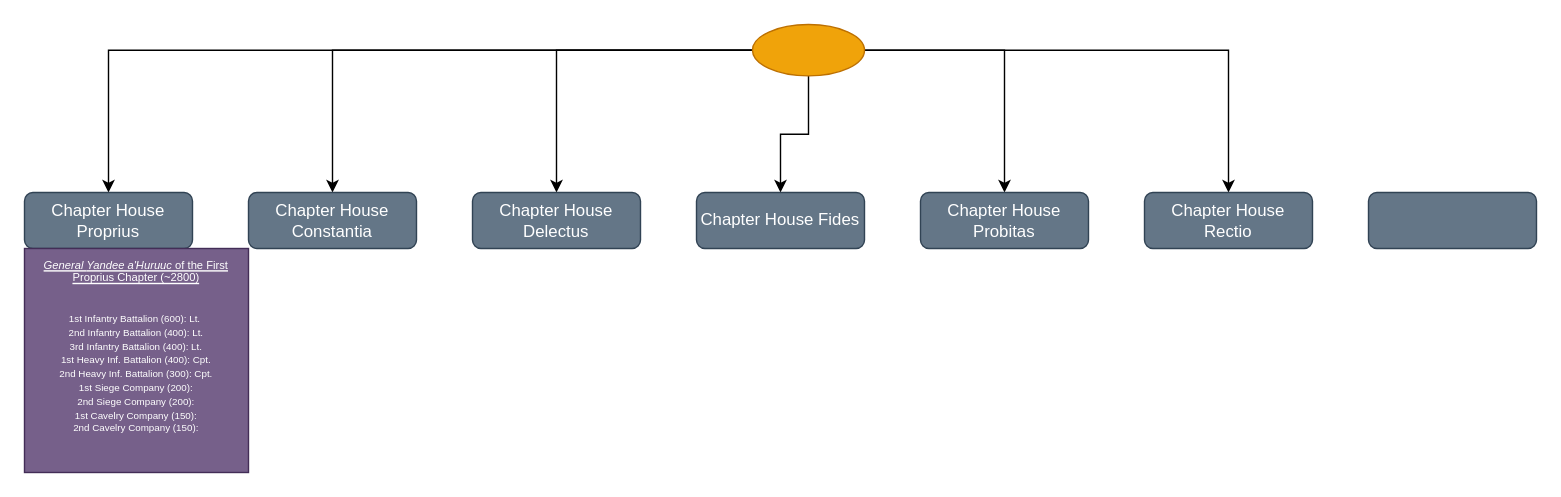
The diagram is 1561 pixels wide and 497 high, and some of its shapes have lost their labels. Each missing label, with the box of its shape:
King Arthur: (751, 23, 864, 76)
The King's Martial Citizenry: (1367, 191, 1536, 248)
